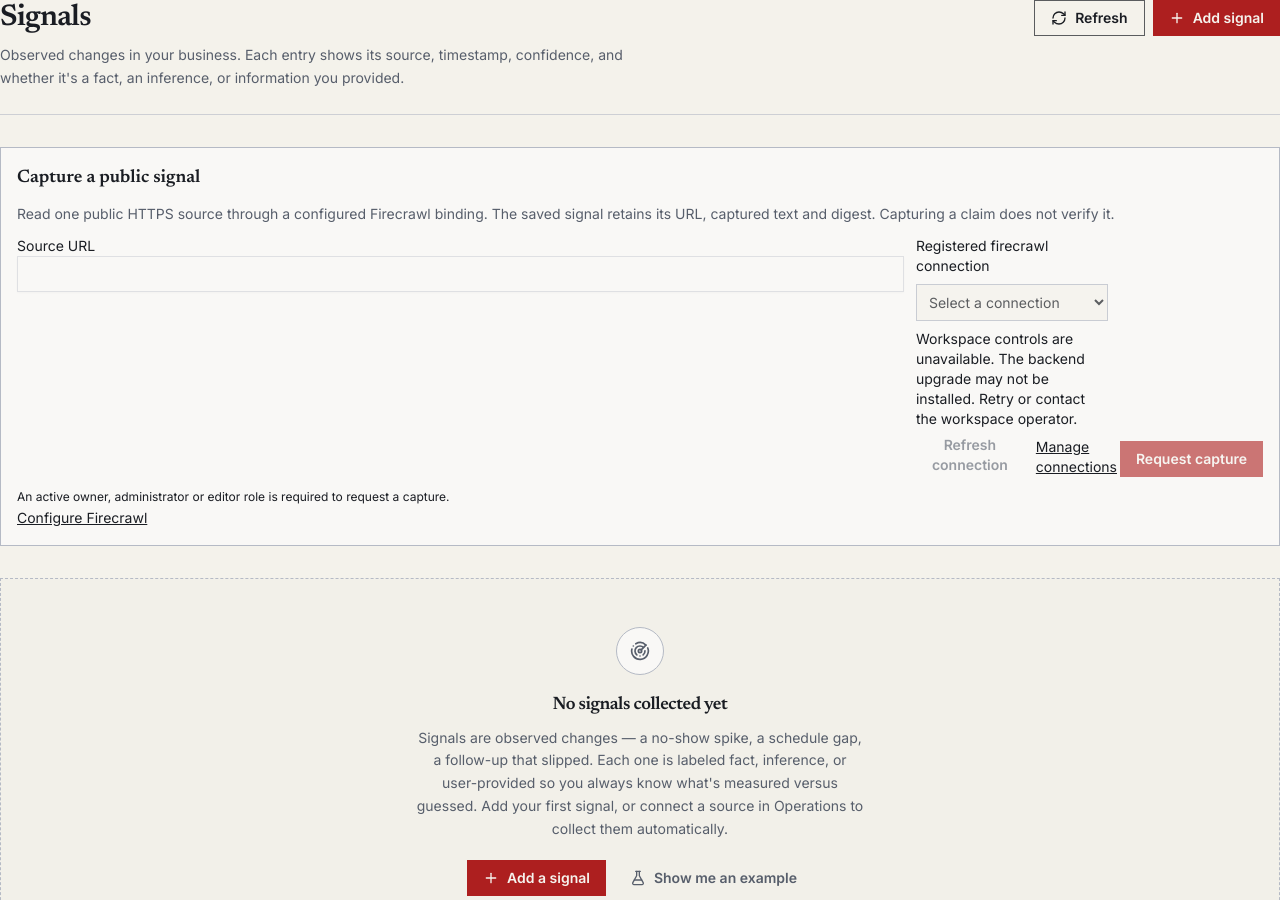
Scenario: SignalsPage › saves a signal as a fact with a numeric confidence
Click the button "Add signal" at point(1216, 18), box [1153,0,1279,36]
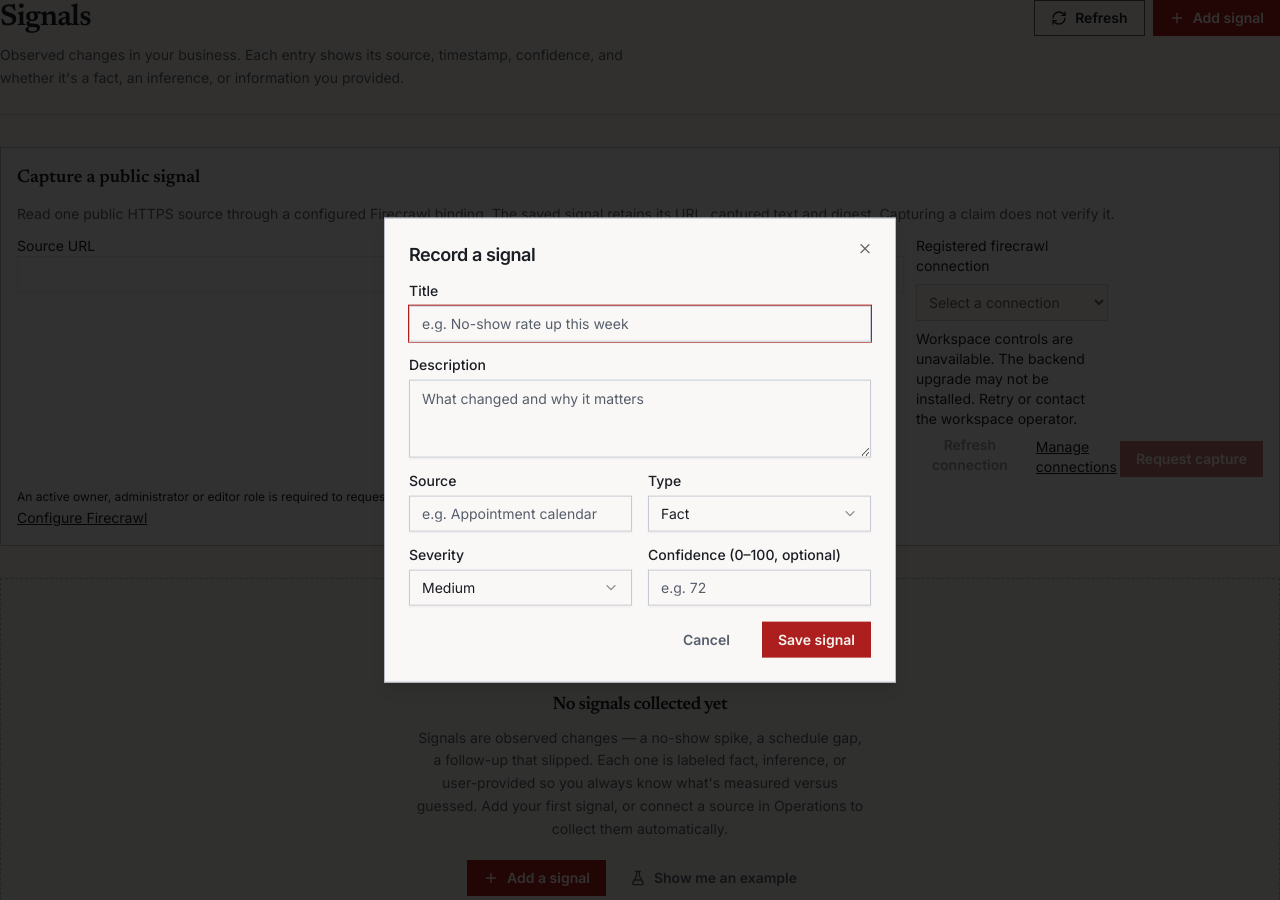
Type "No-show rate up" into the field labelled "Title" at point(640, 323), box [409,305,871,341]
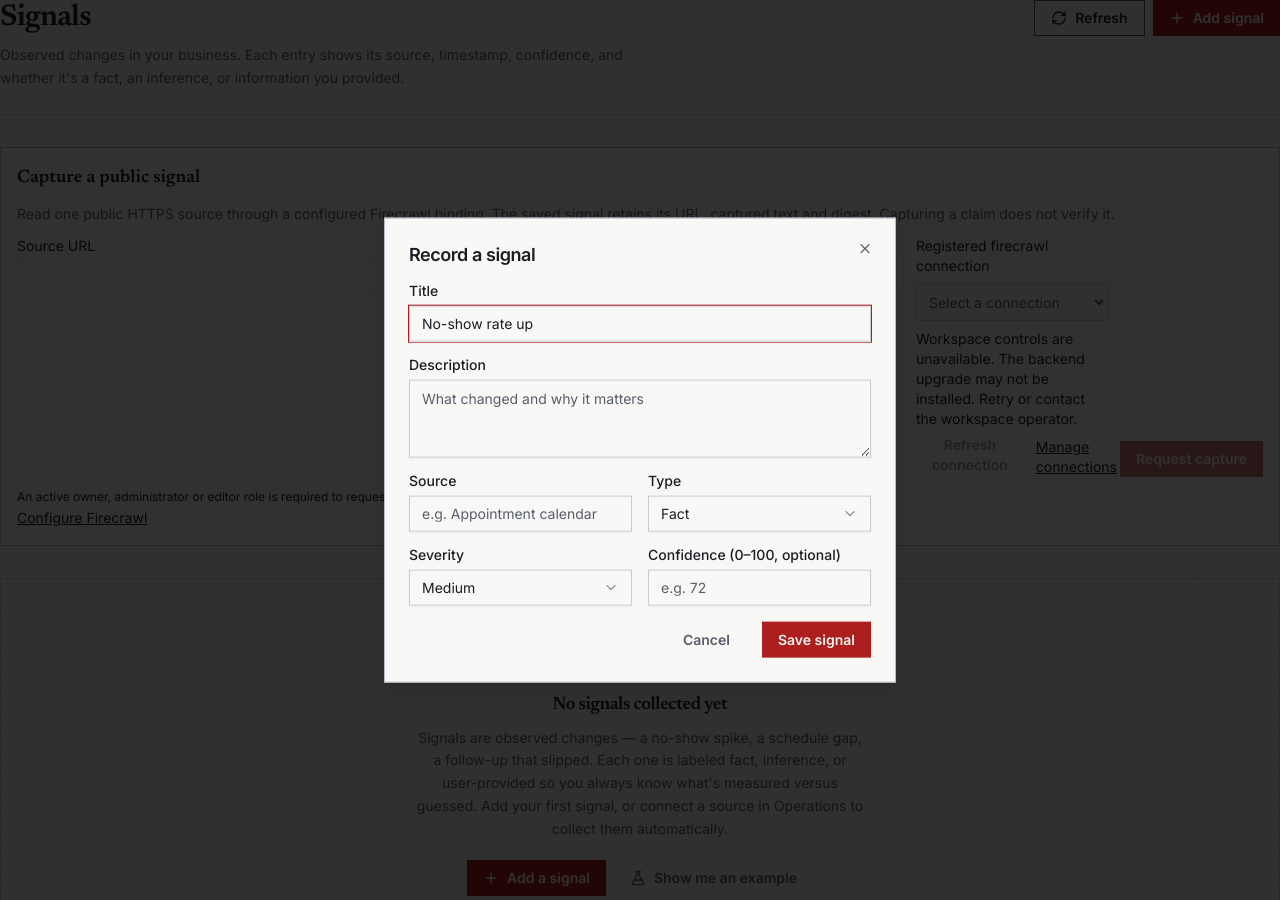
Type "Four missed visits." into the text box labelled "Description" at point(640, 418), box [409,379,871,457]
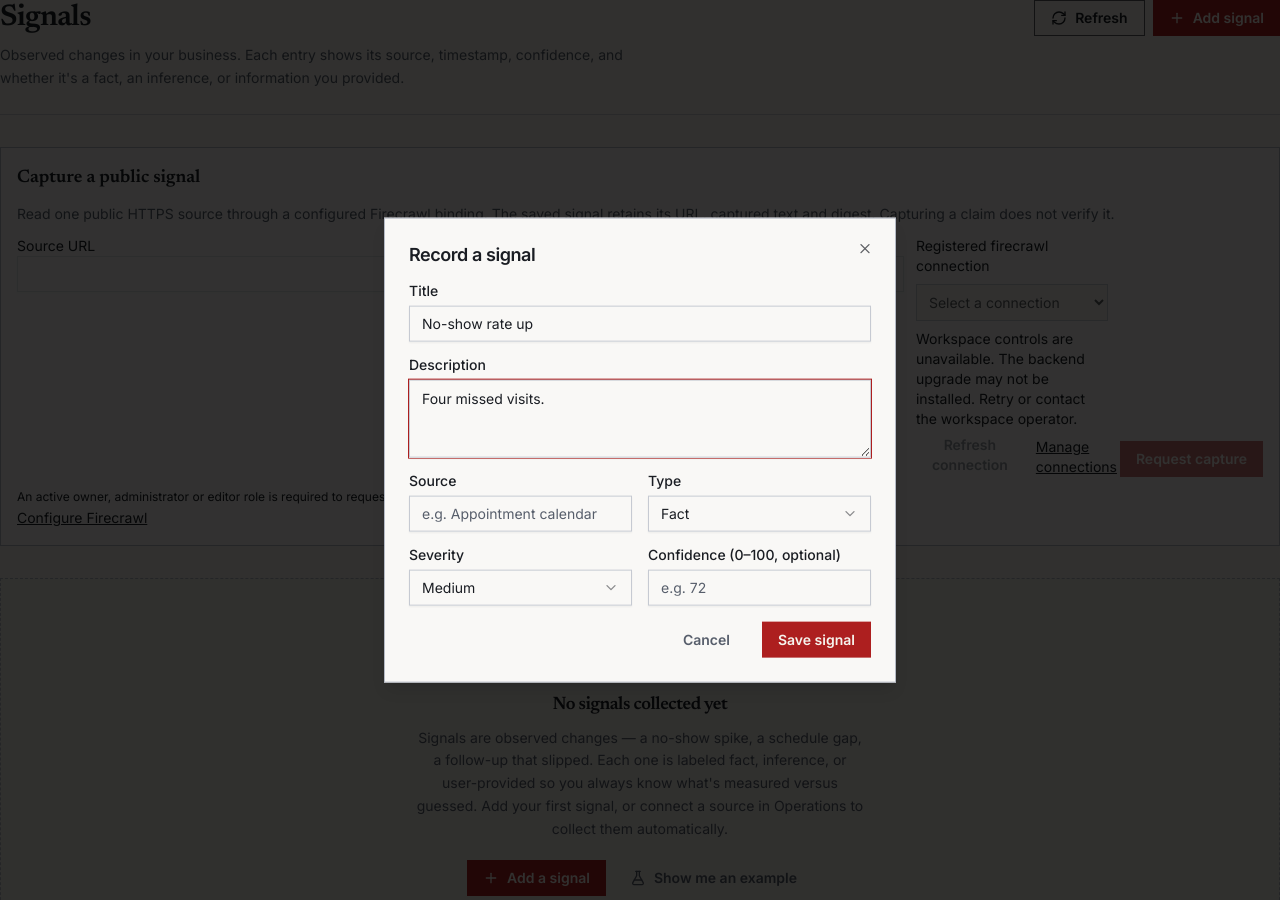
Type "Appointment calendar" into the field labelled "Source" at point(520, 513), box [409,495,632,531]
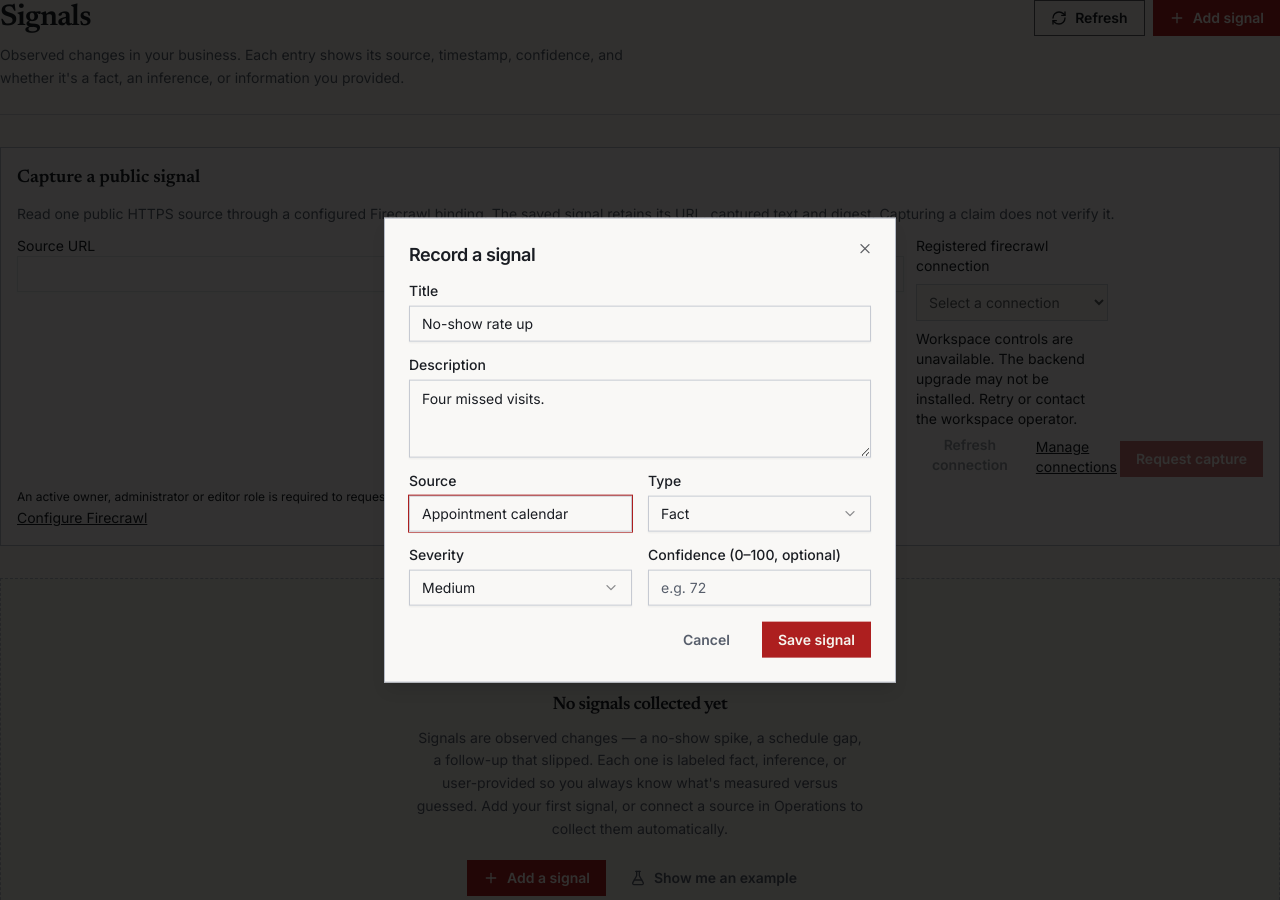
Type "72" into the number field labelled "Confidence (0–100, optional)" at point(760, 587), box [648,569,871,605]
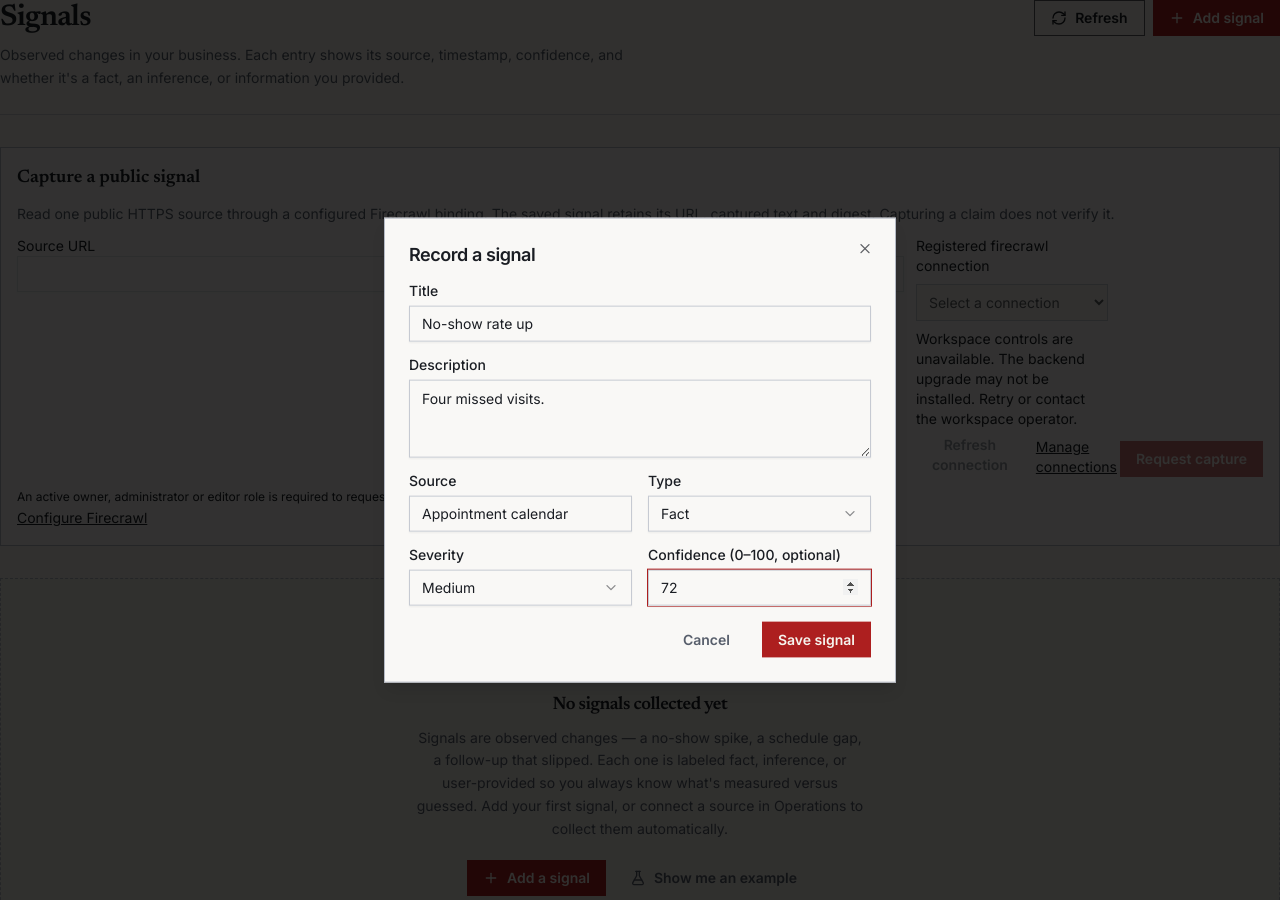
Click the button "Save signal" at point(816, 639), box [762,621,871,657]
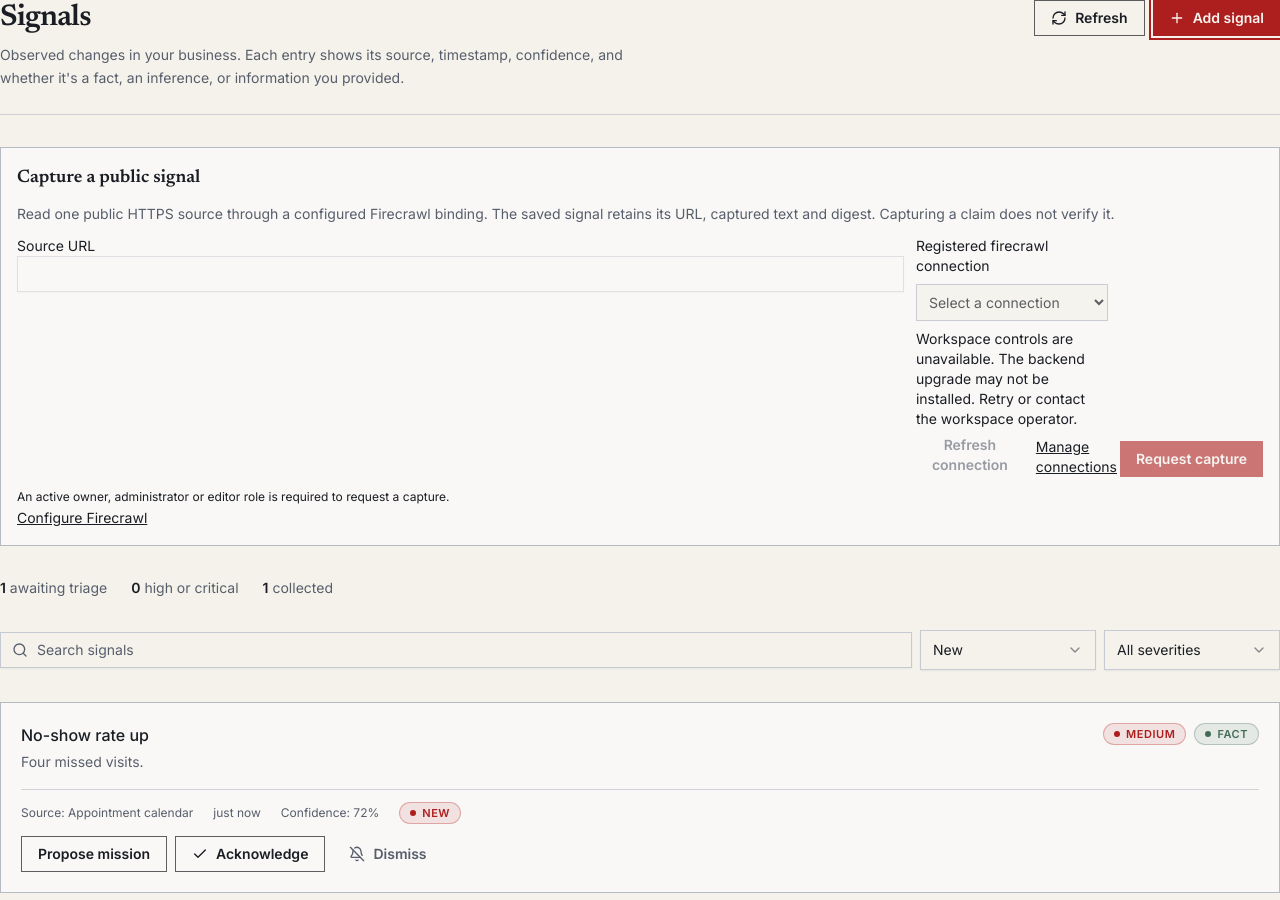
Now the text "No-show rate up" is shown, box [21,722,149,746]
